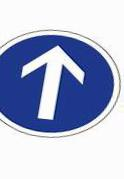forward: (1, 29, 118, 137)
